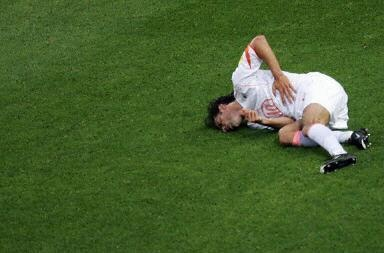falling: (198, 29, 376, 172)
